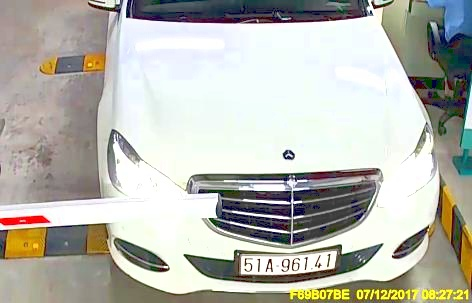plate: (232, 246, 347, 279)
